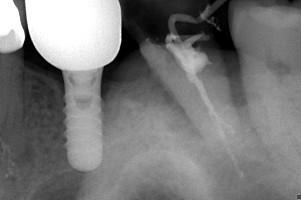Furcation Involvement: (16, 141, 36, 163)
